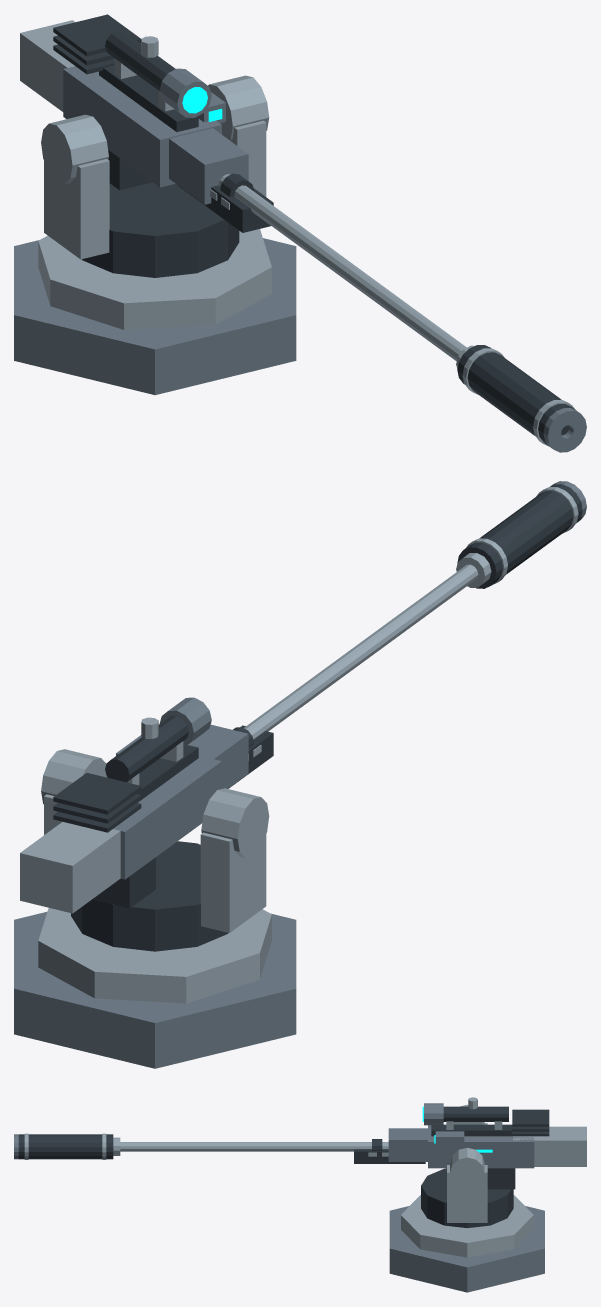
File: needle_t3.glb
3 views of the same model, one above another, from view 1: azimuth 30°, elevation 25°; view 2: azimuth 150°, elevation 25°; view 3: azimuth 270°, elevation 25° (orthographic). The views are drawn at different scales.
Visible parts, largest first — view 1: Foundation, Base upper armor, Yaw bearing, Elevation fork (×2), Receiver, Trunnion (×2), Precision barrel, Signature suppressor, Slim receiver shroud, Rear equipment, Optic rail, Long range optic (+5 smaller); view 2: Foundation, Base upper armor, Yaw bearing, Rear equipment, Receiver, Elevation fork, Trunnion (×2), Precision barrel, Signature suppressor, Rear radiator (×3), Long range optic, Slim receiver shroud (+3 smaller); view 3: Foundation, Base upper armor, Receiver, Precision barrel, Signature suppressor, Yaw bearing, Rear equipment, Elevation fork, Slim receiver shroud, Trunnion, Long range optic, Optic rail (+5 smaller).
Part boxes in pixels (x1,y1,x2,y2): Foundation: (14,238,296,395); Base upper armor: (38,229,271,329); Yaw bearing: (82,182,239,277); Elevation fork (×2): (44,120,266,259); Receiver: (63,66,221,187); Trunnion (×2): (41,75,269,184); Precision barrel: (219,174,466,361); Signature suppressor: (457,345,575,445); Slim receiver shroud: (169,128,248,204); Rear equipment: (20,20,83,111); Optic rail: (99,65,198,131); Long range optic: (105,30,175,90); Foundation: (14,912,296,1068); Base upper armor: (38,908,271,1003); Yaw bearing: (71,841,228,951); Rear equipment: (20,822,120,913); Receiver: (113,755,221,879); Elevation fork: (200,832,266,932); Trunnion (×2): (41,749,269,857); Precision barrel: (244,564,478,739); Signature suppressor: (457,484,582,588); Rear radiator (×3): (53,773,141,832); Long range optic: (105,716,188,782); Slim receiver shroud: (188,724,248,788); Foundation: (389,1206,544,1292); Base upper armor: (401,1195,533,1257); Receiver: (428,1125,534,1168); Precision barrel: (120,1142,388,1151); Signature suppressor: (18,1134,113,1159); Yaw bearing: (421,1168,513,1228); Rear equipment: (513,1126,586,1166); Elevation fork: (447,1165,487,1222); Slim receiver shroud: (388,1128,427,1161); Trunnion: (450,1147,484,1188); Long range optic: (443,1106,508,1121); Optic rail: (431,1124,512,1136).
Bounding box in the file's own units: 1.55 × 1.48 × 4.96.
